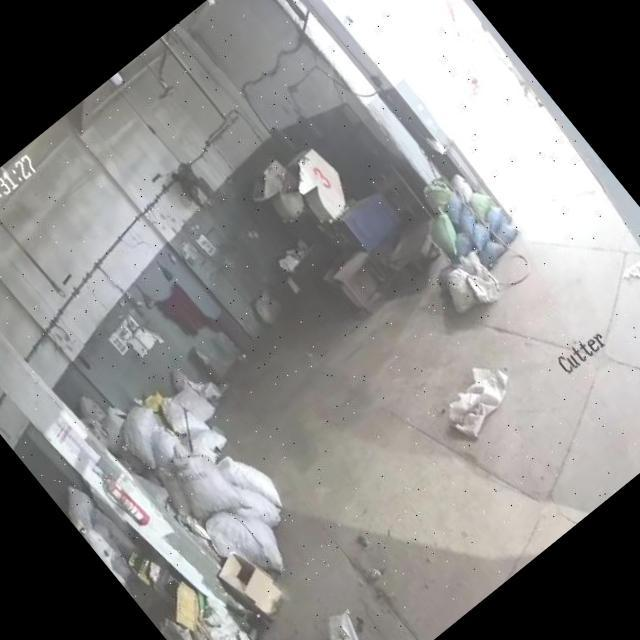person: (474, 23, 548, 110)
